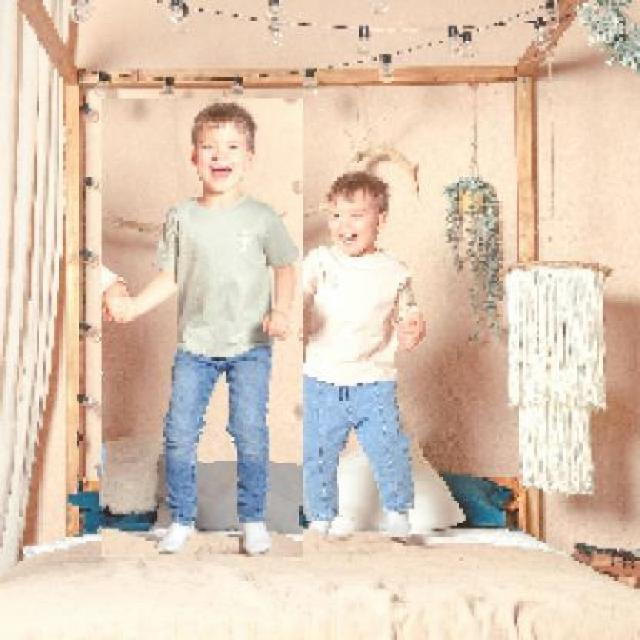child: (100, 99, 303, 558), (272, 168, 428, 538)
